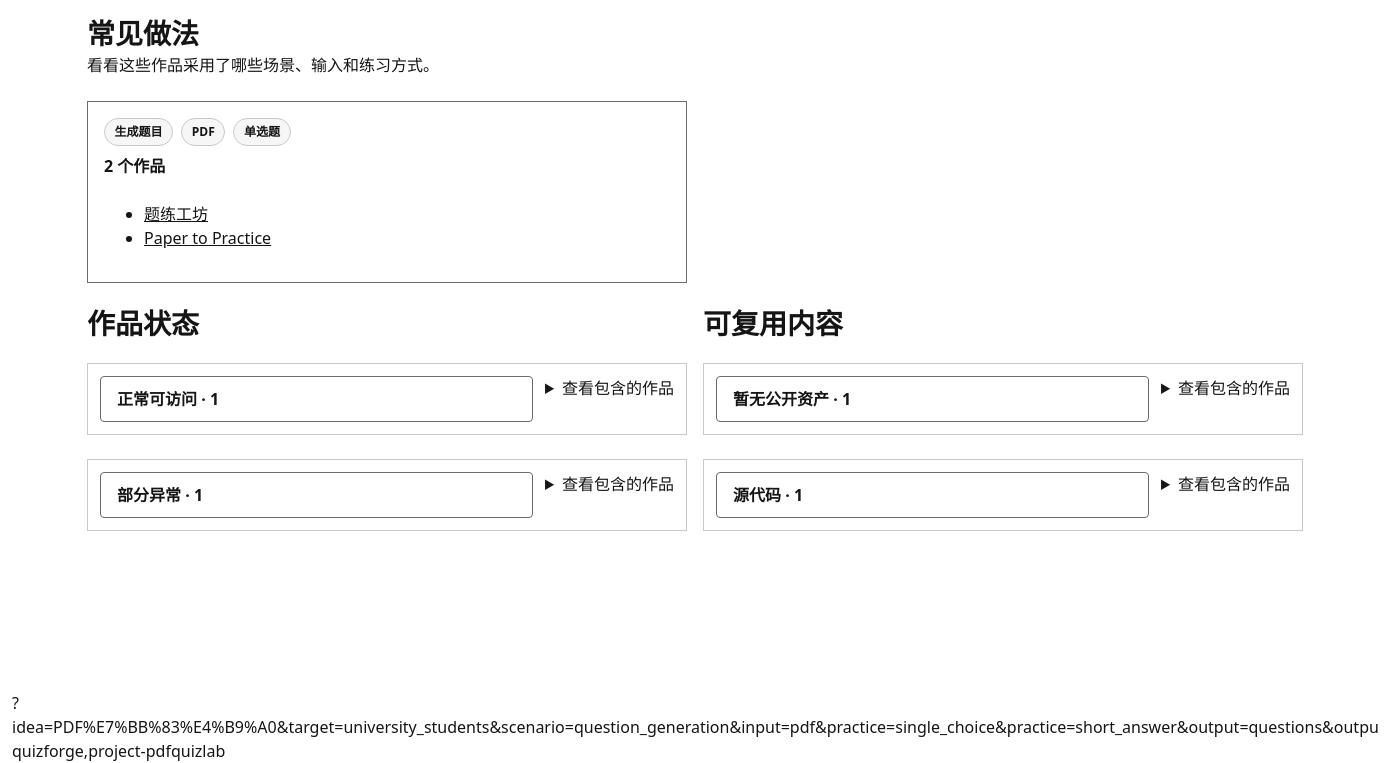
Scenario: DiscoverResultPage › opens a statistic as a corresponding work filter
(page scrolled)
Check: the heading "作品状态" is shown, box 87,304 -> 199,342
What coordinates should you click on to do the following:
click the button "部分异常 · 1"
I would click on:
 (149, 495)
Its box is 100,472 -> 533,518.
(page scrolled)
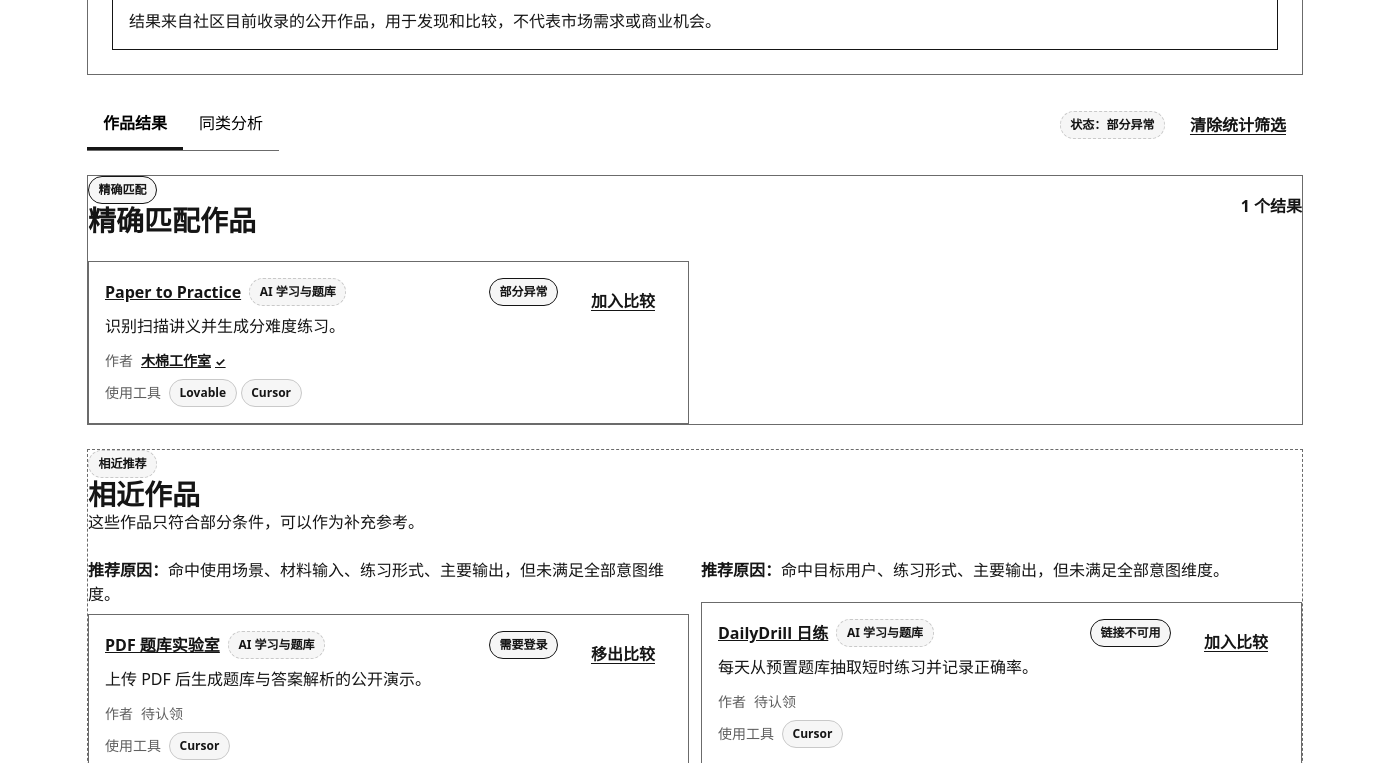
Check: the text "Paper to Practice" is shown, box 105,281 -> 241,303
Check: the link "题练工坊" is gone
